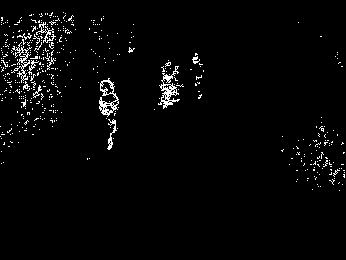person: (97, 79, 119, 150), (192, 51, 207, 101)
